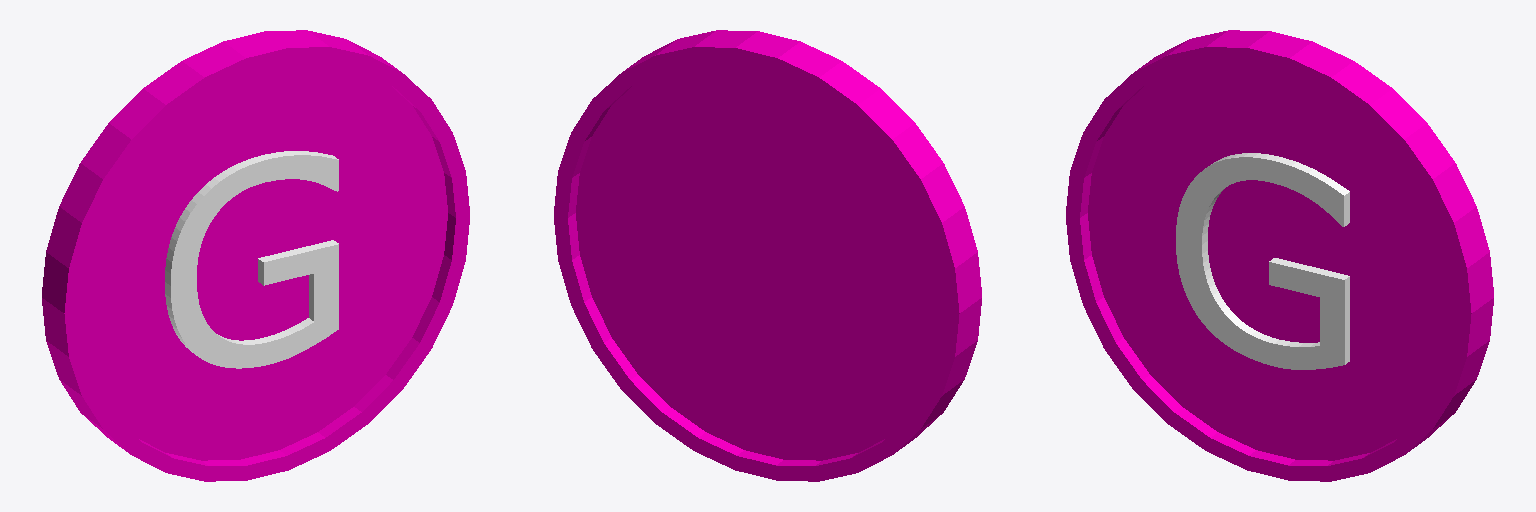
3 renders of one model, left to right at view 1: azimuth 30°, elevation 25°; view 2: azimuth 150°, elevation 25°; view 3: azimuth 330°, elevation 25°, orthographic.
Visible parts, largest first — view 1: pCylinder1, typeMesh1; view 2: pCylinder1; view 3: pCylinder1, typeMesh1.
Boxes of the visible parts, x1,y1,x2,y2 form: pCylinder1: [42, 30, 469, 481]; typeMesh1: [165, 151, 338, 368]; pCylinder1: [554, 30, 981, 481]; pCylinder1: [1066, 30, 1493, 481]; typeMesh1: [1176, 153, 1349, 369].
Bounding box in the file's own units: 0.6456 × 0.6421 × 0.0631.